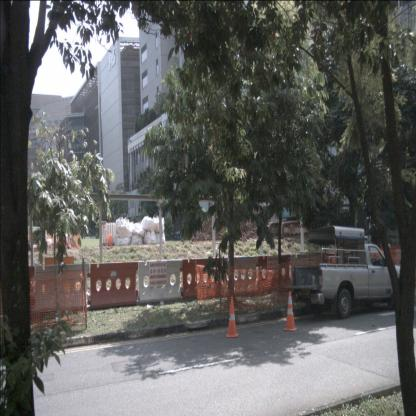movable_object-barrier: (30, 263, 90, 315), (87, 261, 139, 309), (136, 258, 183, 304), (181, 255, 222, 300), (256, 254, 292, 294), (224, 255, 259, 295)
movable_object-trafficcone: (225, 296, 239, 338), (284, 291, 298, 332)
vehicle-truck: (286, 225, 412, 319)
